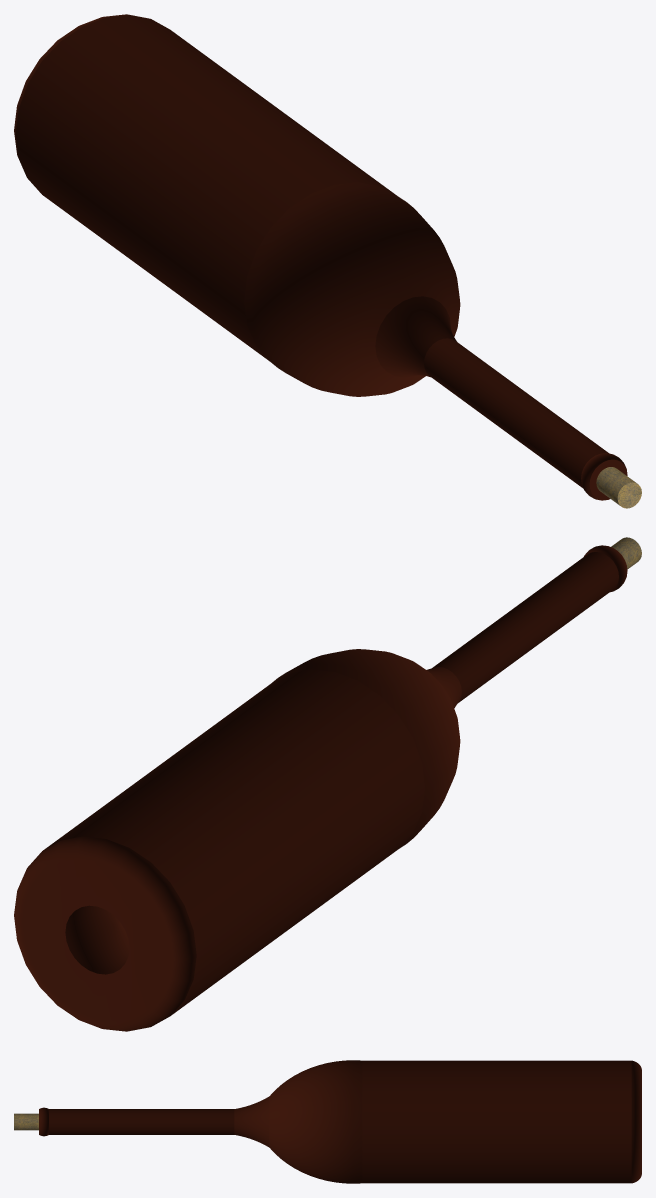
Rendered from model_align.obj.
The picture shows the model from 3 angles, top to bottom: view 1: azimuth 30°, elevation 25°; view 2: azimuth 150°, elevation 25°; view 3: azimuth 270°, elevation 25°; orthographic projection. The views are drawn at different scales.
Parts seen in each view (by area): view 1: mesh3_mesh3-geometry, mesh1_mesh1-geometry; view 2: mesh3_mesh3-geometry; view 3: mesh3_mesh3-geometry, mesh1_mesh1-geometry.
Part boxes in pixels (box(x1,y1,x2,y2)): mesh3_mesh3-geometry: box(14, 14, 627, 500); mesh1_mesh1-geometry: box(596, 467, 641, 508); mesh3_mesh3-geometry: box(14, 545, 627, 1031); mesh3_mesh3-geometry: box(39, 1060, 641, 1183); mesh1_mesh1-geometry: box(14, 1113, 38, 1130).
Size of the model in its own units: 0.0561 by 0.0561 by 0.2844.
